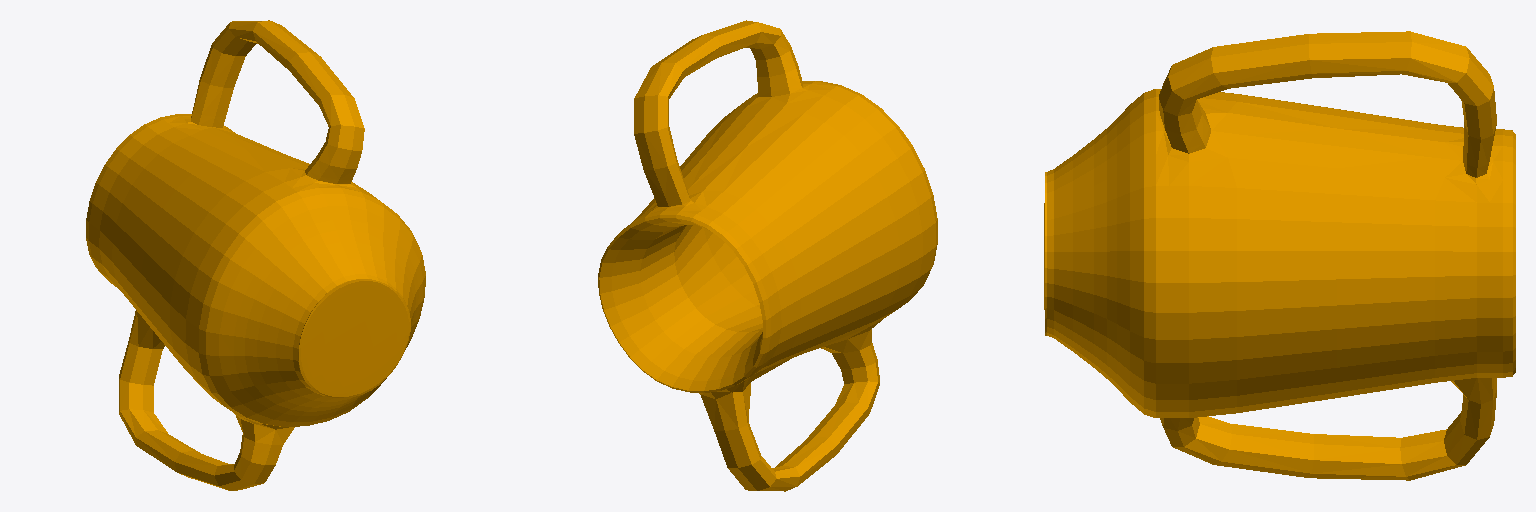
URDF robot description (130):
<?xml version="1.0" ?>
<robot name="130">
  <link name="body">
    <visual>
      <geometry>
        <mesh filename="../shapes/130.obj"/>
      </geometry>
    </visual>
    <collision>
      <geometry>
        <mesh filename="../shapes/130.obj"/>
      </geometry>
    </collision>
  </link>
</robot>

--- Render facts (derived) ---
Views: 3 orthographic renders of the robot side by side, from view 1: azimuth 30°, elevation 25°; view 2: azimuth 150°, elevation 25°; view 3: azimuth 270°, elevation 25°.
Model 130 with 1 links and 0 joints (none), rooted at body, posed every joint at zero.
Visible links, largest first — view 1: body; view 2: body; view 3: body.
Link boxes in pixels (x1=…): body: x1=86, y1=20, x2=425, y2=490; body: x1=598, y1=20, x2=937, y2=491; body: x1=1044, y1=31, x2=1515, y2=480.
Bounding box of the posed robot: 2.46 × 3.52 × 4.2 m (x, y, z).
1 mesh visuals loaded from 1 distinct referenced files (1 OBJ).